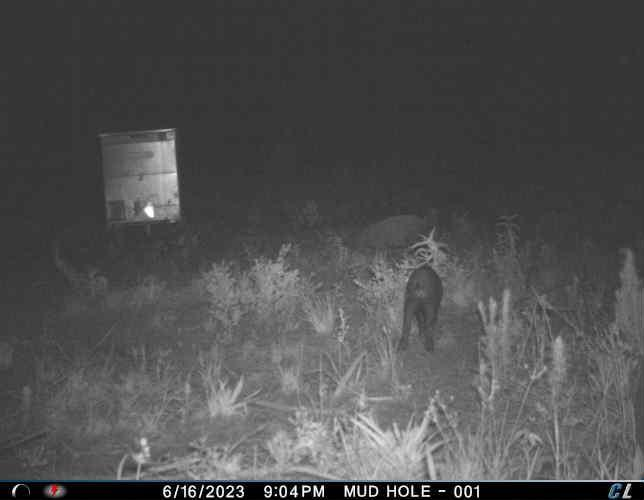Hog: (344, 211, 432, 269), (394, 262, 446, 357)
